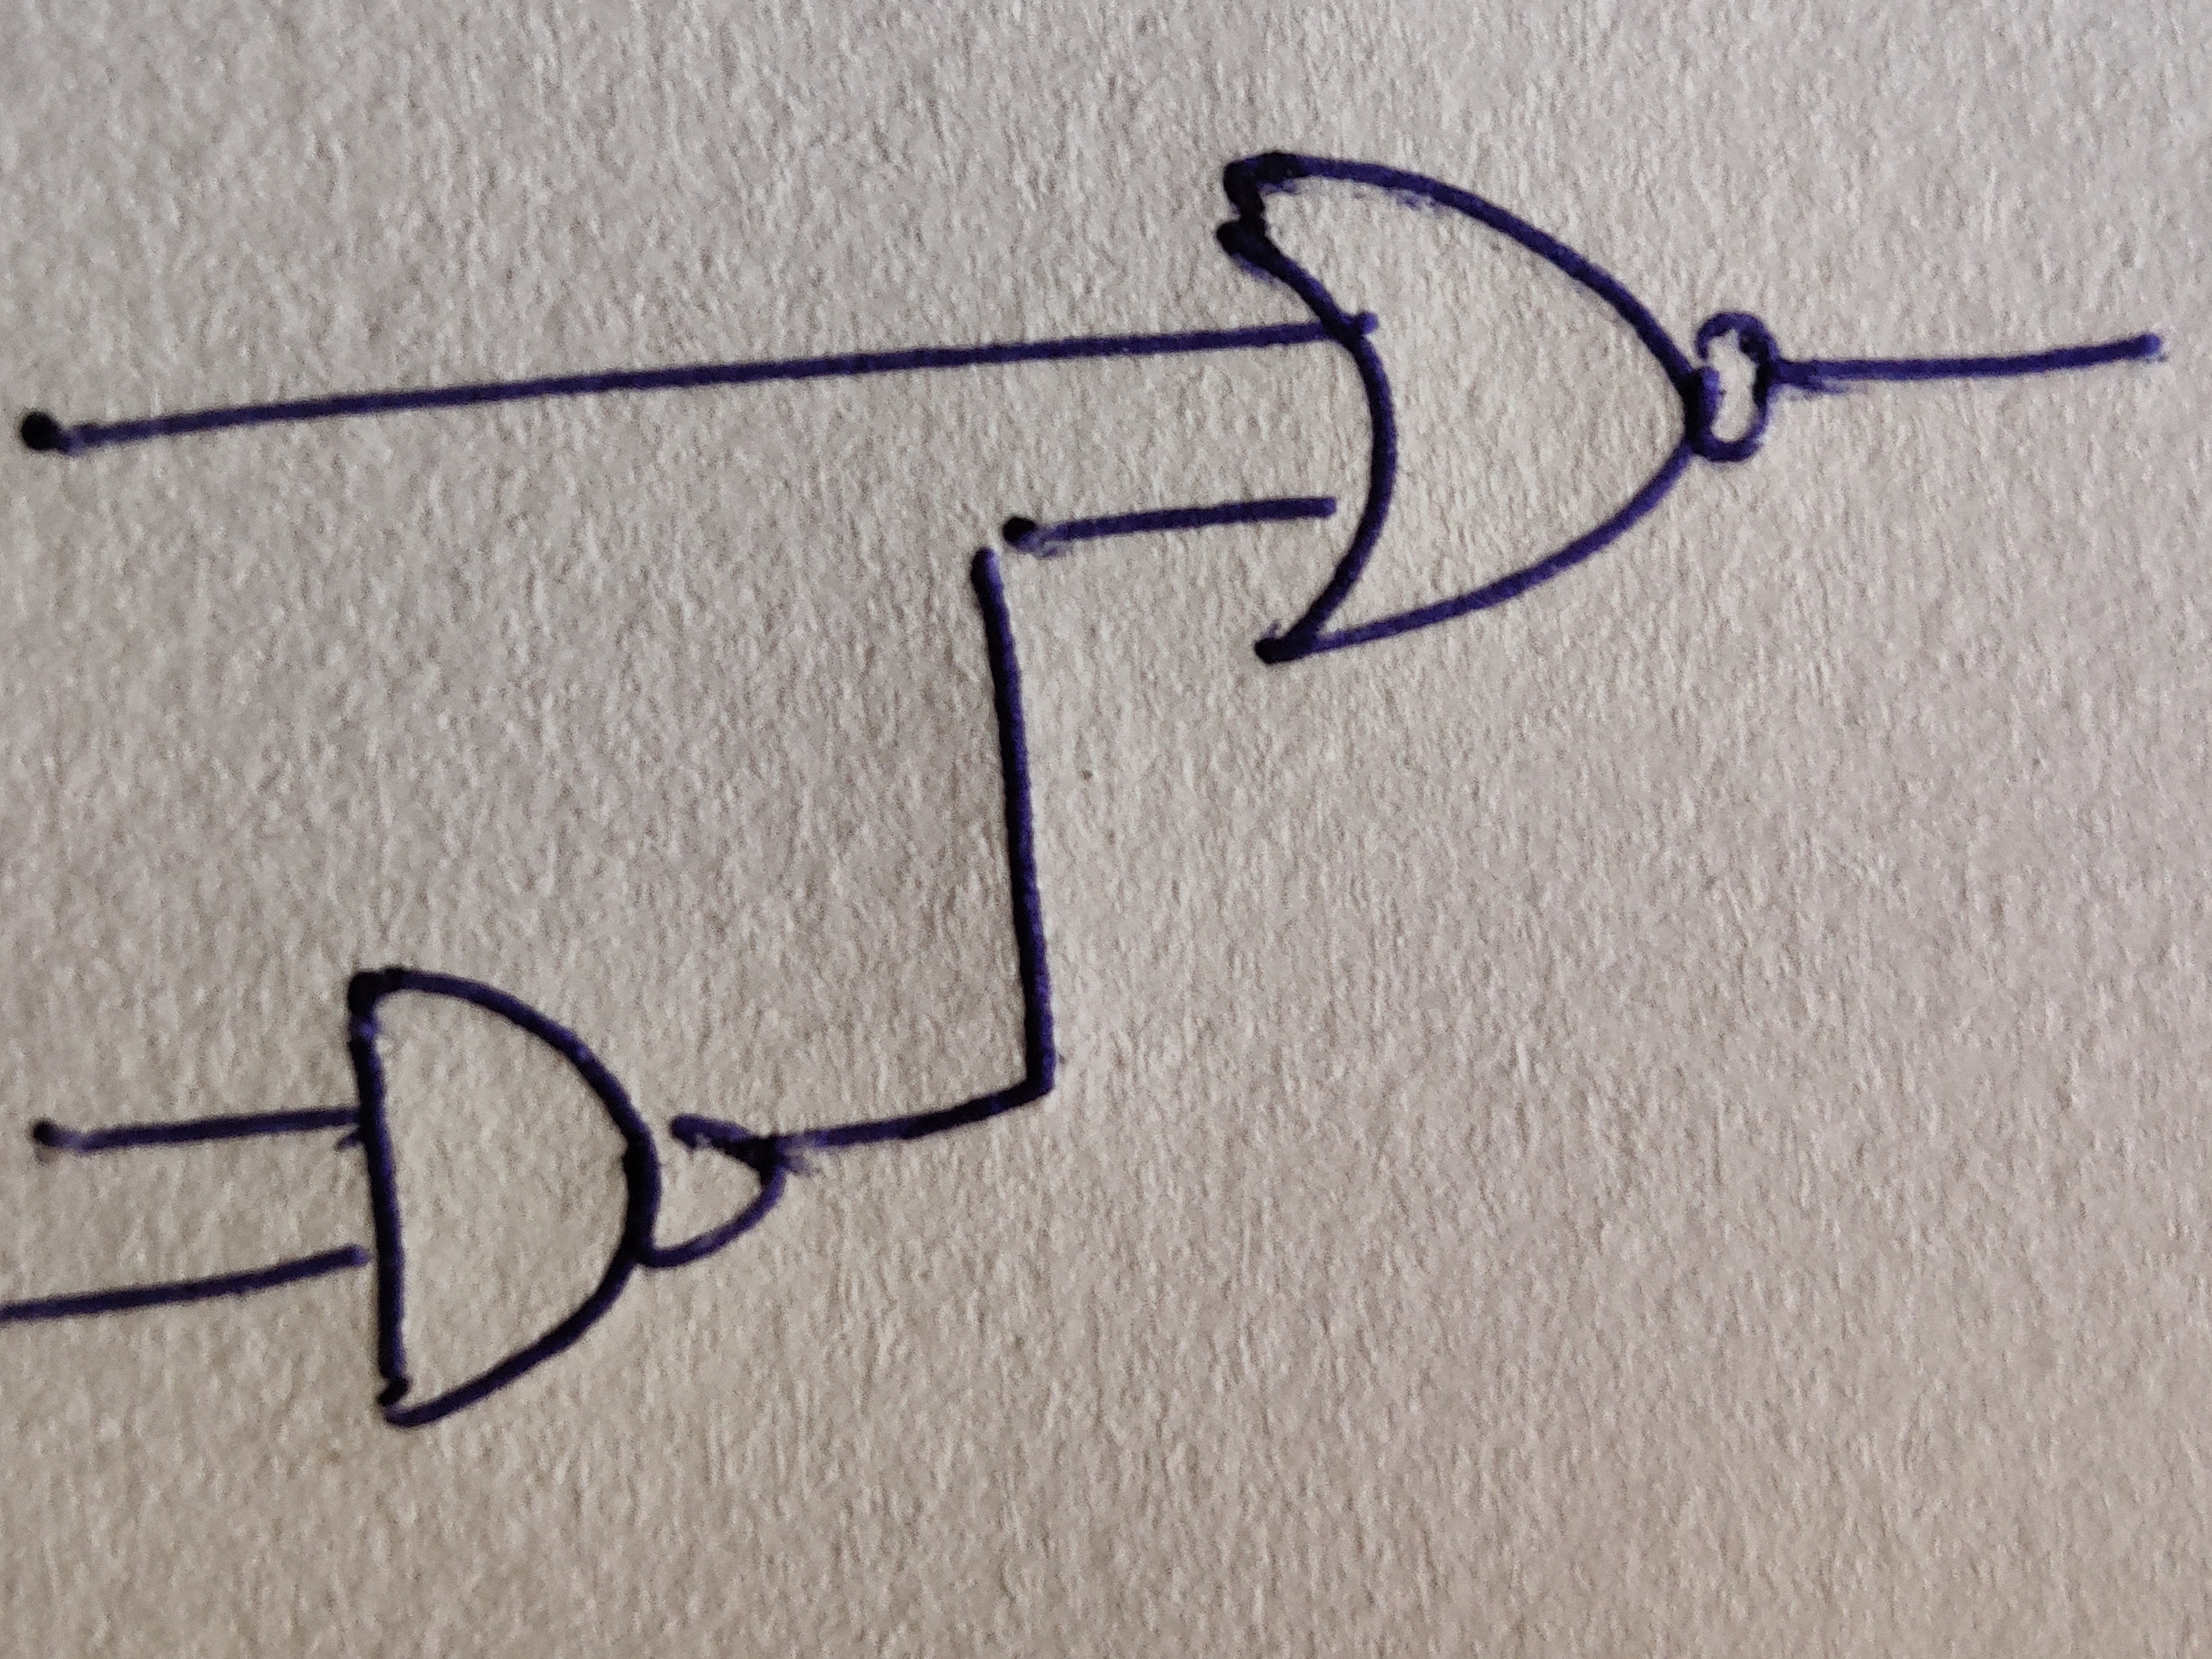and: (345, 965, 662, 1431)
not: (631, 1115, 779, 1272), (1684, 312, 1780, 467)
or: (1214, 162, 1695, 667)
